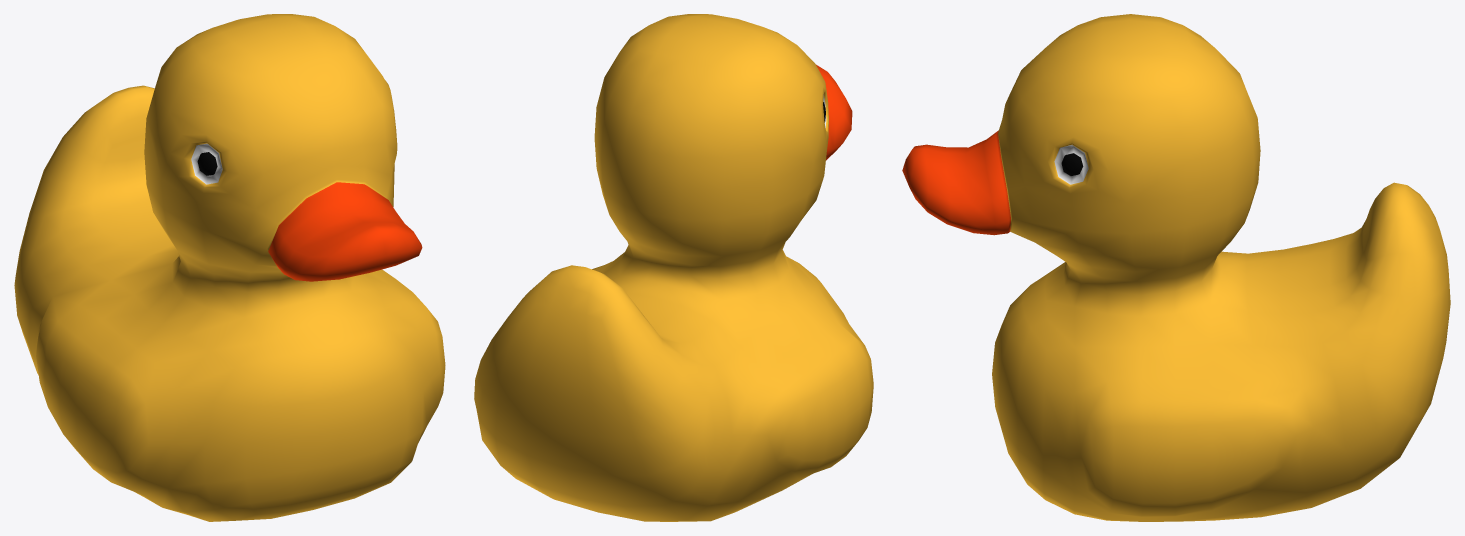
File: Rubber_Duck_3d.glb
The picture shows the model from 3 angles, left to right: view 1: azimuth 30°, elevation 25°; view 2: azimuth 150°, elevation 25°; view 3: azimuth 270°, elevation 25°; orthographic projection. The views are drawn at different scales.
Parts seen in each view (by area): view 1: Rubber Duck; view 2: Rubber Duck; view 3: Rubber Duck.
Part boxes in pixels (box(x1,y1,x2,y2)): Rubber Duck: box(14, 14, 445, 521); Rubber Duck: box(474, 14, 873, 521); Rubber Duck: box(902, 14, 1450, 521).
Size of the model in its own units: 0.2398 by 0.3092 by 0.3428.
